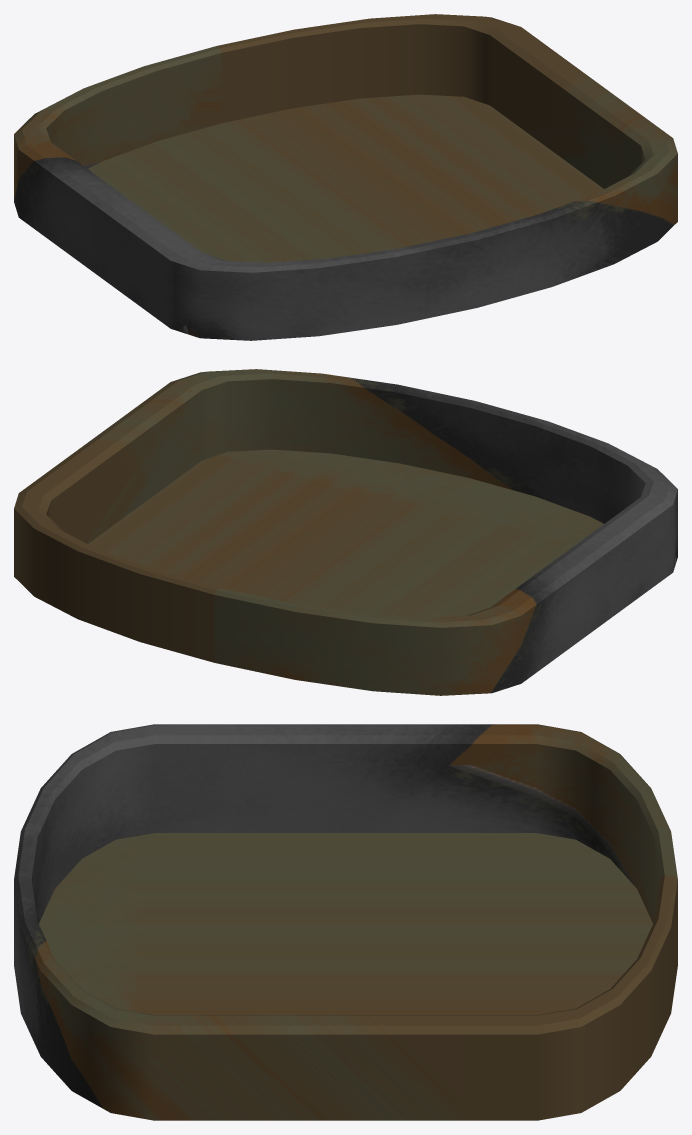
Rendered from Trough.fbx.
3 views of the same model, one above another, from view 1: azimuth 30°, elevation 25°; view 2: azimuth 150°, elevation 25°; view 3: azimuth 270°, elevation 25° (orthographic). The views are drawn at different scales.
Visible parts, largest first — view 1: Troughs; view 2: Troughs; view 3: Troughs.
Part boxes in pixels (x1,y1,x2,y2): Troughs: [14, 14, 677, 340]; Troughs: [14, 369, 677, 695]; Troughs: [14, 724, 677, 1120].
Bounding box in the file's own units: 1213 × 169 × 1097.
